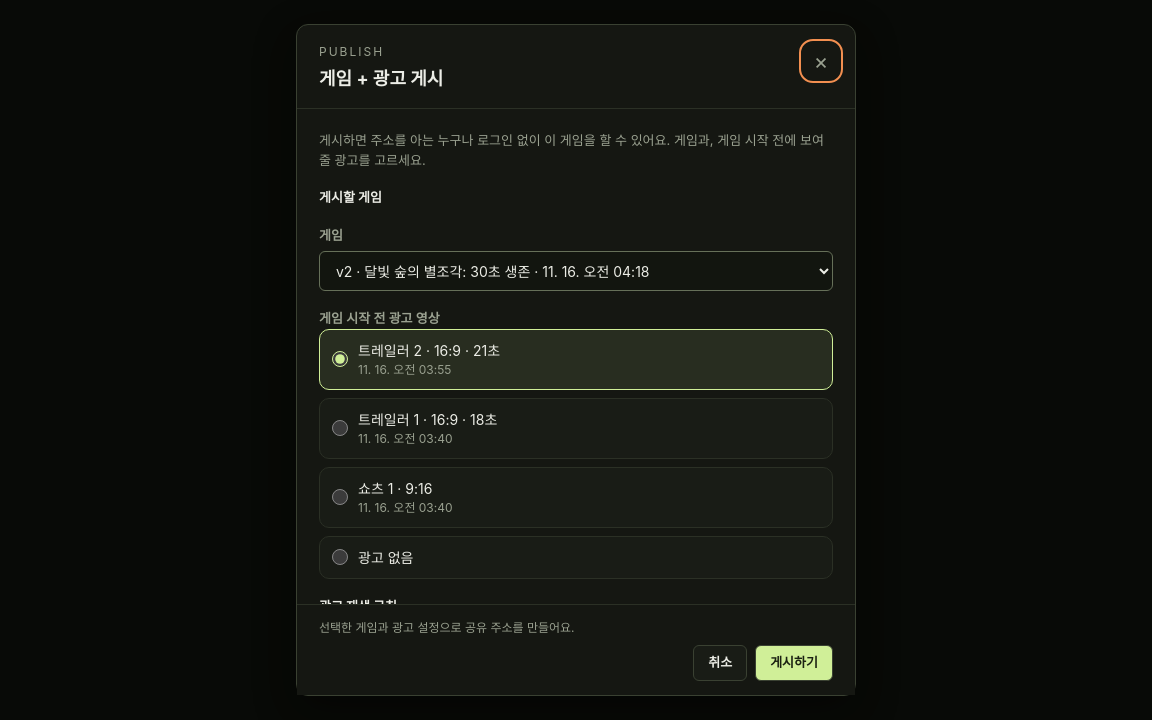
Test: R20-23 the address after publishing › comes up in view above the settings, with 주소 복사 focused and the footer saying it is done
The width and height of the screenshot is (1152, 720).
Submit the form, box [297,109,855,604]
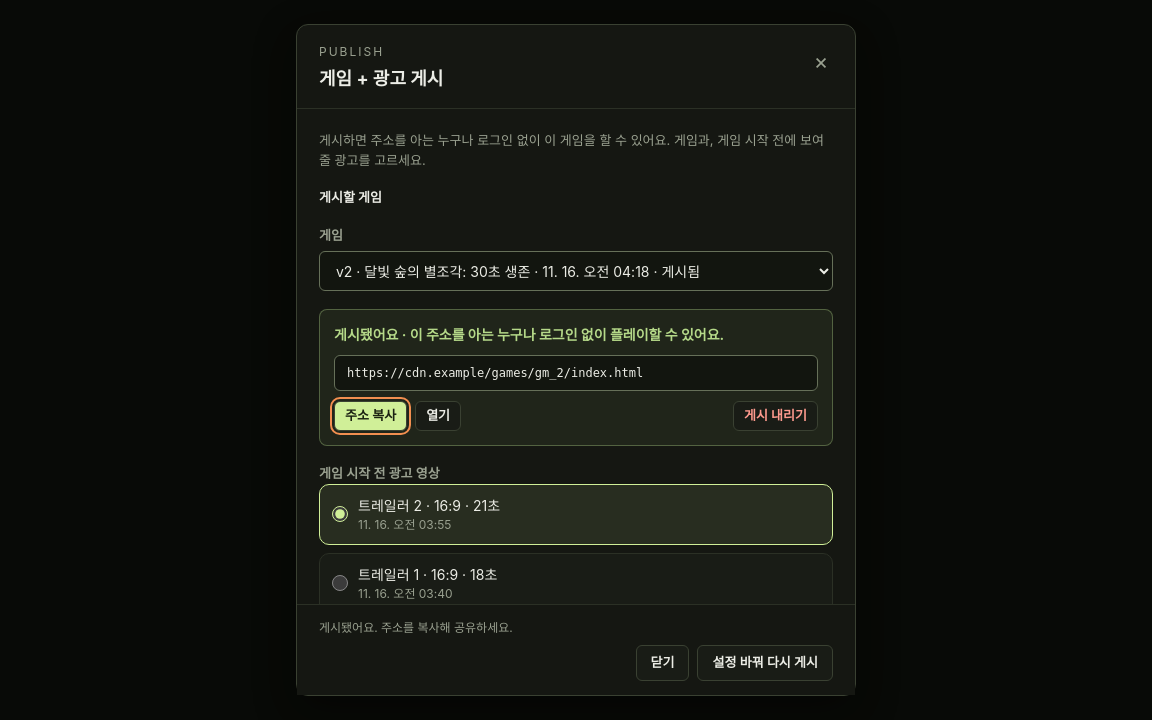
Result: the message "게시됐어요 · 이 주소를 아는 누구나 로그인 없이 플레이할 수 있어요. 주소 복사 열기 게시 내리기" is shown at [319,309,833,446]
Result: the message "게시됐어요. 주소를 복사해 공유하세요." is shown at [319,620,513,635]
Click the button "주소 복사": [371, 416] box [334,401,407,431]
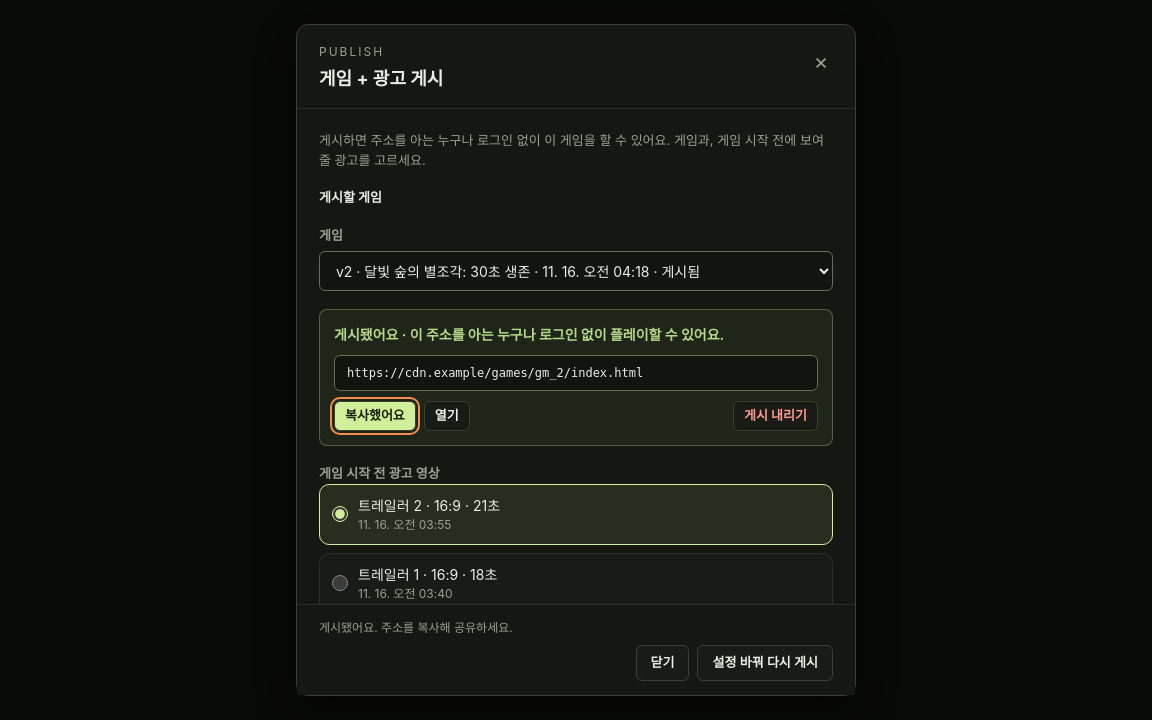
Result: the button "복사했어요" is shown at [334,401,416,431]
